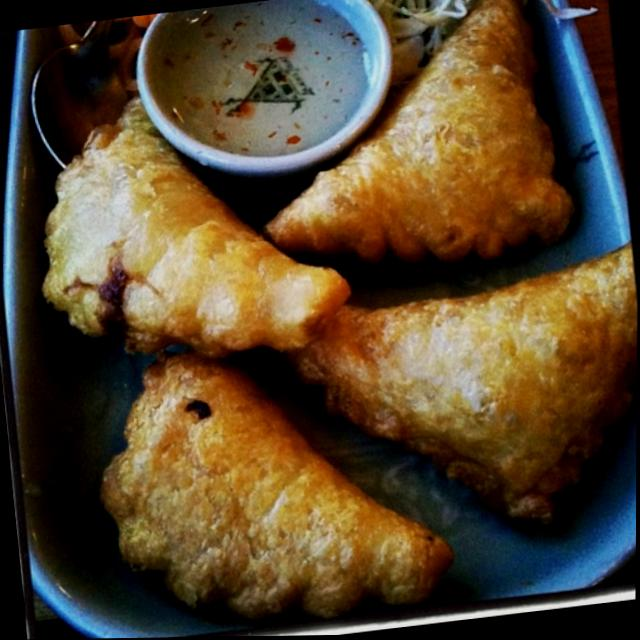炸货点心: (1, 0, 640, 640)
